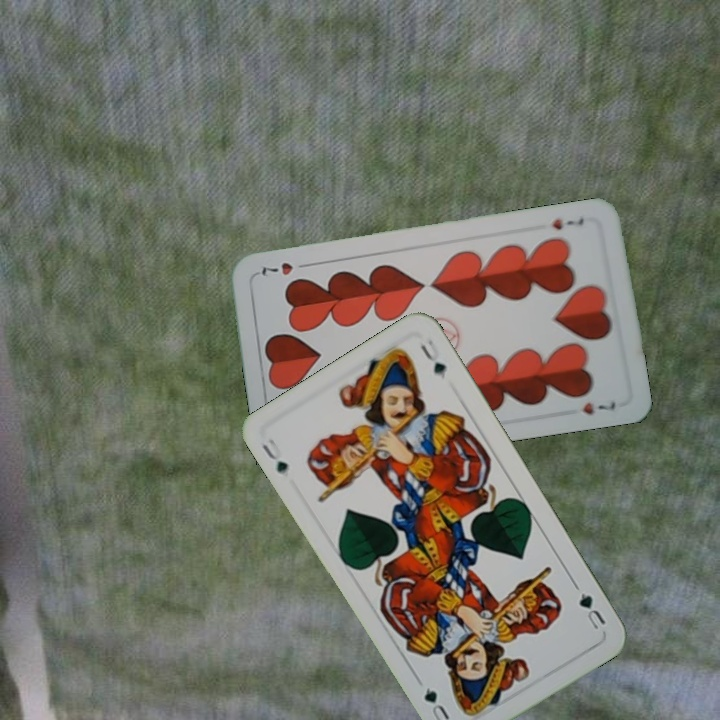GU: (575, 588, 609, 633), (258, 434, 291, 478)
H7: (548, 214, 586, 233)
